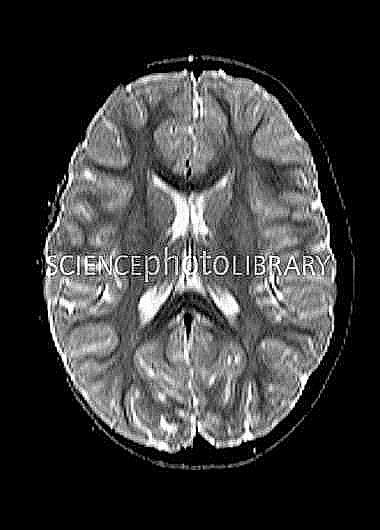Normal_Brain: (5, 1, 380, 530), (1, 21, 17, 27)
